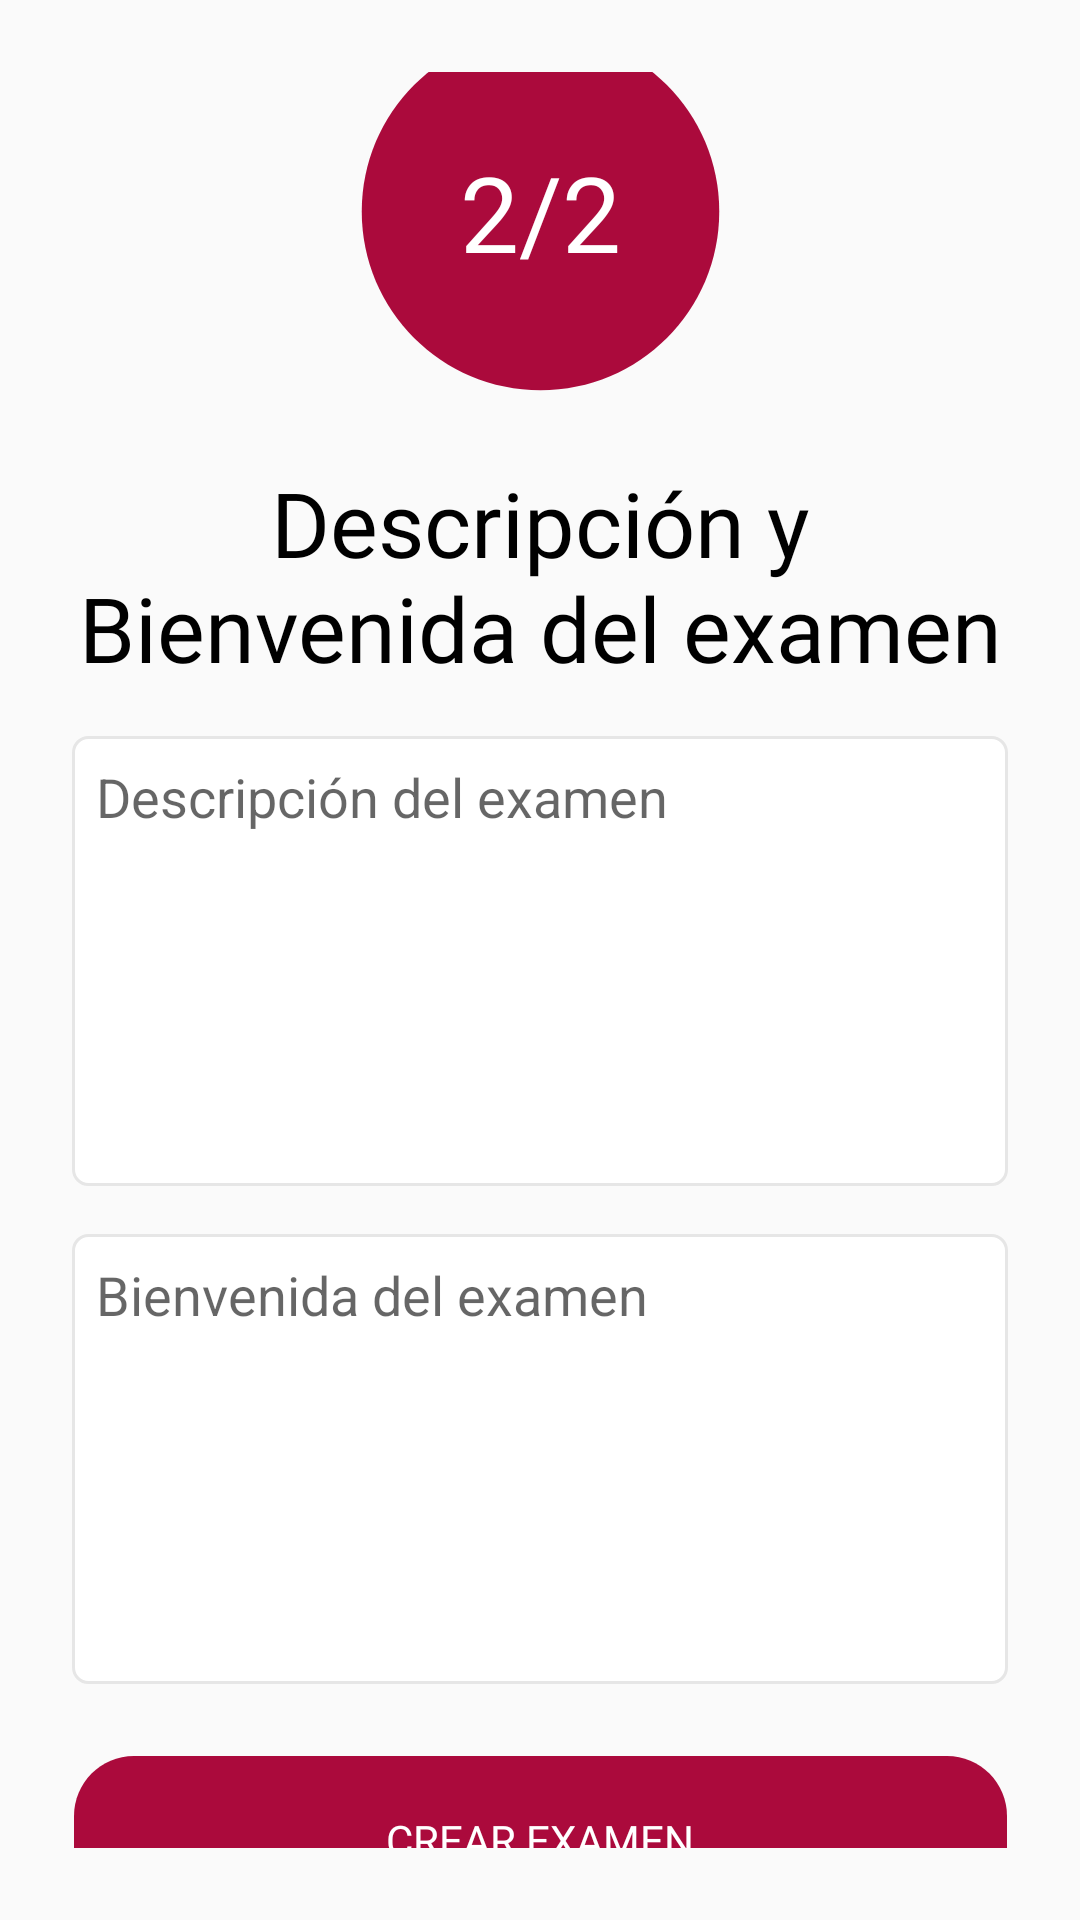

Icon bounding boxes for this 1080px×1920px phone screenshot, format (x1, y1, x2, y2):
circle: (361, 72, 720, 391)
